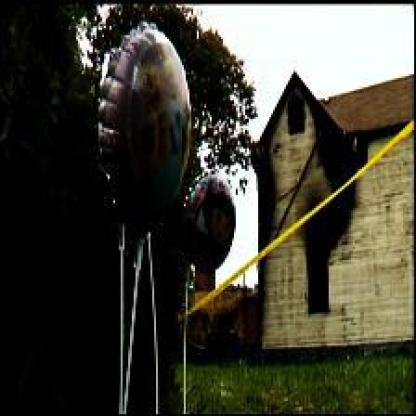other: (286, 164, 368, 199)
